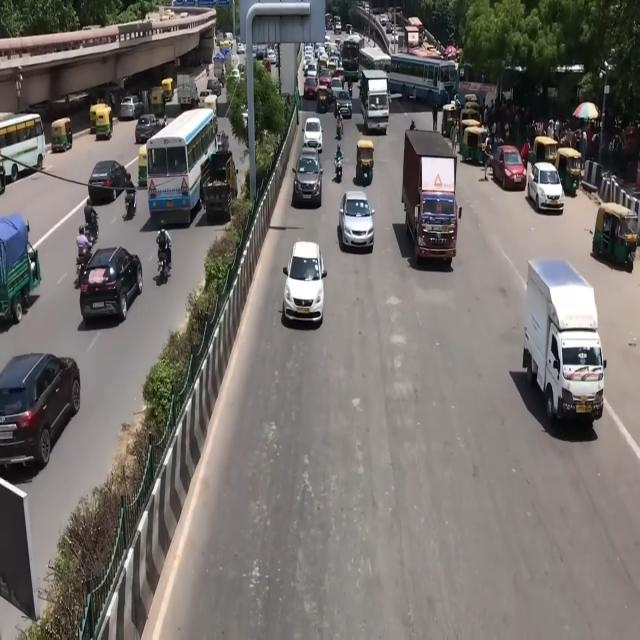auto: (598, 191, 638, 289), (556, 146, 586, 210), (537, 137, 563, 194), (354, 130, 374, 200), (48, 111, 73, 160), (465, 122, 487, 163), (86, 97, 105, 135), (95, 105, 113, 142), (151, 83, 164, 124), (160, 74, 174, 102)
bike-auto: (152, 211, 177, 292), (79, 188, 100, 251), (76, 214, 92, 290), (122, 172, 139, 226), (336, 140, 344, 192), (335, 103, 344, 139)
